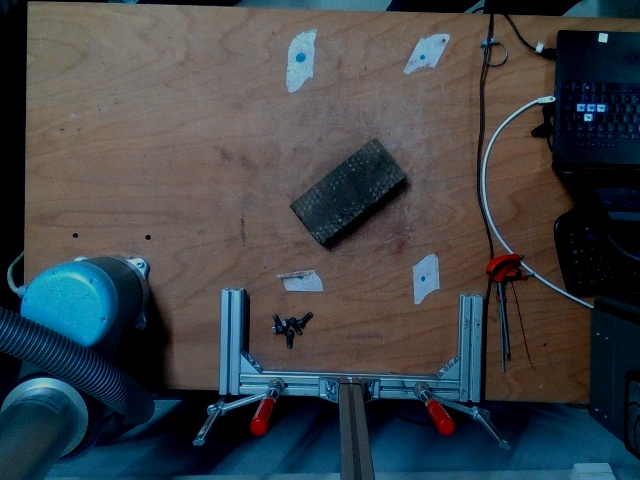brick: (289, 136, 406, 243)
